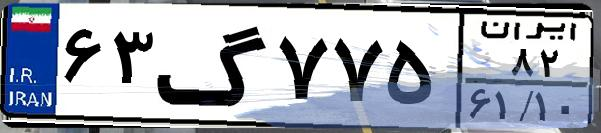0: (560, 70, 590, 125)
1: (495, 70, 520, 125), (535, 70, 560, 125)
2: (537, 27, 568, 80)
3: (110, 28, 156, 98)
5: (385, 28, 445, 110)
6: (57, 26, 110, 100), (470, 70, 495, 125)
7: (270, 28, 330, 110), (330, 28, 385, 110)
8: (508, 27, 537, 80)
گ: (156, 12, 270, 120)
